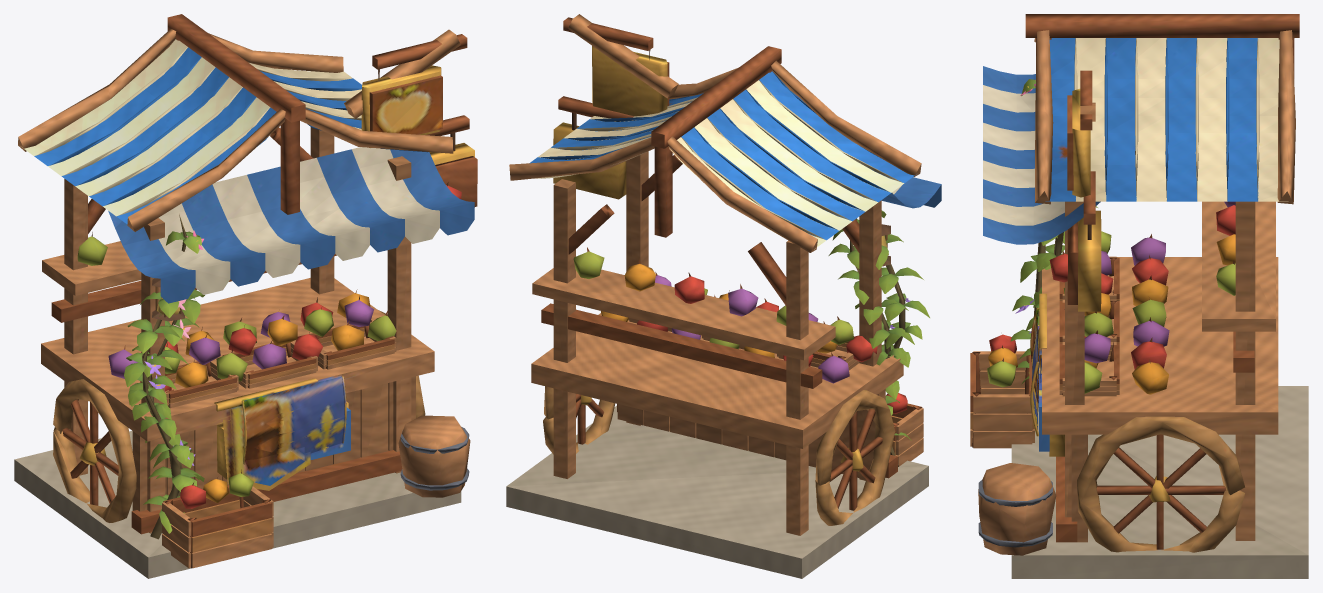
The model's file is stall_fruit.glb.
3 views of the same model, side by side, from view 1: azimuth 30°, elevation 25°; view 2: azimuth 150°, elevation 25°; view 3: azimuth 270°, elevation 25° (orthographic). The views are drawn at different scales.
Visible parts, largest first — view 1: Body; view 2: Body; view 3: Body.
Part boxes in pixels (x1,y1,x2,y2): Body: (14, 14, 477, 578); Body: (506, 14, 941, 578); Body: (970, 14, 1308, 578).
Size of the model in its own units: 2.87 by 3.27 by 2.06.
Materials: 1 (1 with a texture image).
